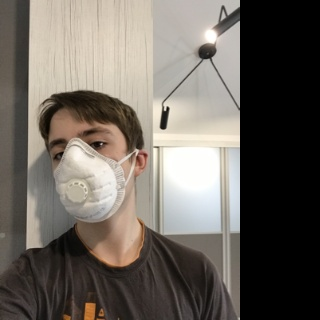with_mask: (48, 123, 128, 222)
